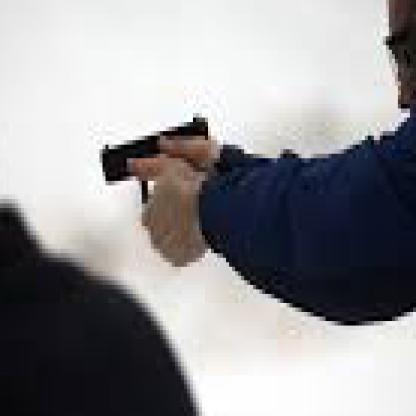gun: (87, 95, 220, 244)
